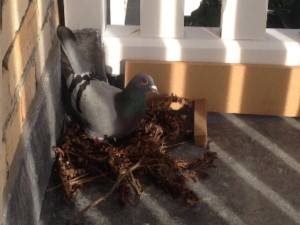pigeon: (54, 25, 161, 147)
